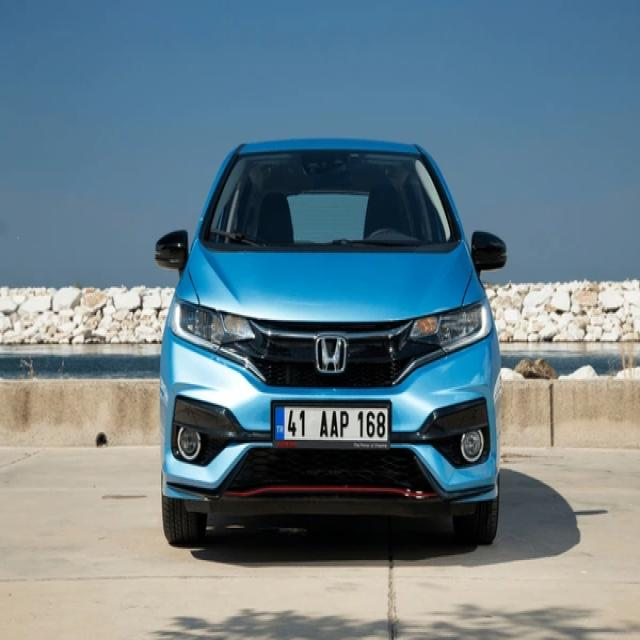honda: (316, 335, 348, 374)
